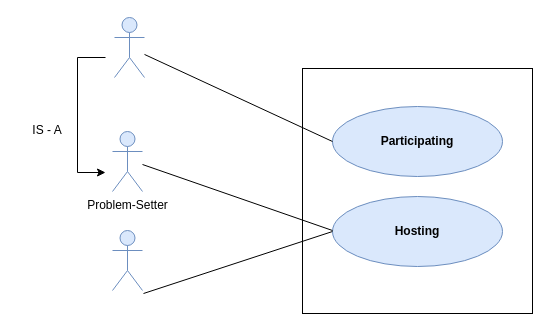
Some shapes in this 550 by 331 pixel diagram are drawn without their labels. Each missing label, with the box of its shape:
Admin: (112, 230, 142, 290)
Contestant: (114, 16, 144, 78)
